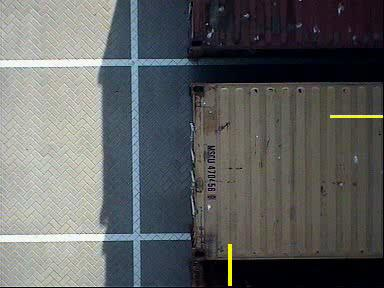groundmarker_2: (142, 51, 197, 88), (141, 170, 196, 207)
